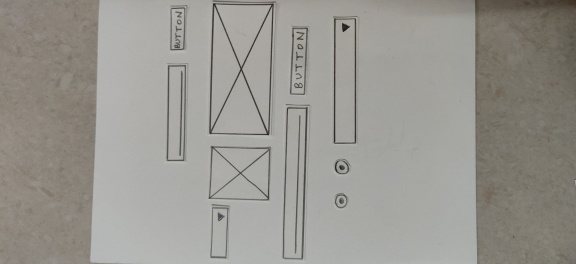button: (289, 26, 306, 97), (168, 4, 187, 51)
dropdown: (331, 15, 359, 146), (209, 205, 230, 260)
img: (207, 2, 275, 136), (207, 144, 273, 200)
radio: (332, 159, 351, 175), (334, 192, 350, 209)
text: (282, 104, 310, 259), (166, 63, 187, 164)
